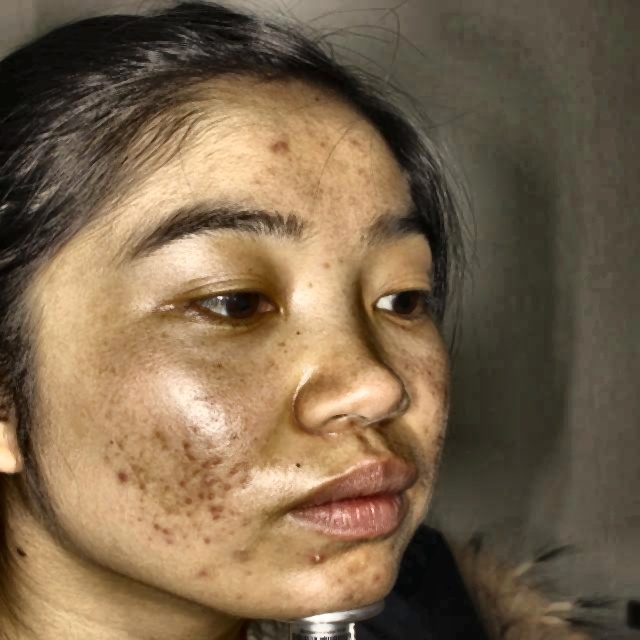pustule: (259, 134, 298, 167), (306, 547, 341, 583), (106, 458, 141, 492), (148, 513, 184, 546), (200, 496, 229, 525), (197, 466, 226, 494), (169, 488, 196, 518), (191, 452, 232, 469), (186, 564, 215, 583)
